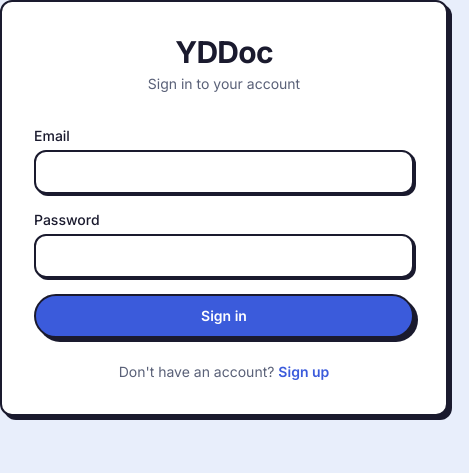
it: LoginForm › displays error message on failed sign in
Type "user@example.com" into the field labelled "Email".
click(224, 172); type("user@example.com")  # box [34, 150, 414, 194]
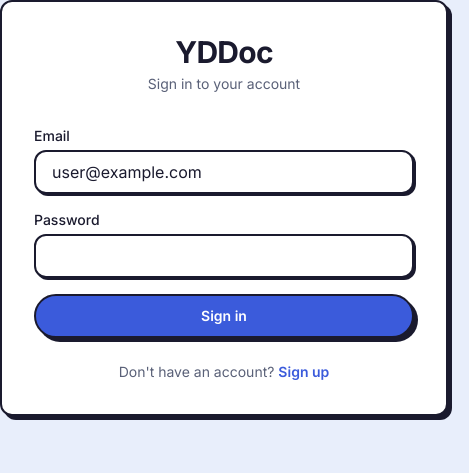
Type "wrongpassword" into the password field labelled "Password".
click(224, 256); type("wrongpassword")  # box [34, 234, 414, 278]
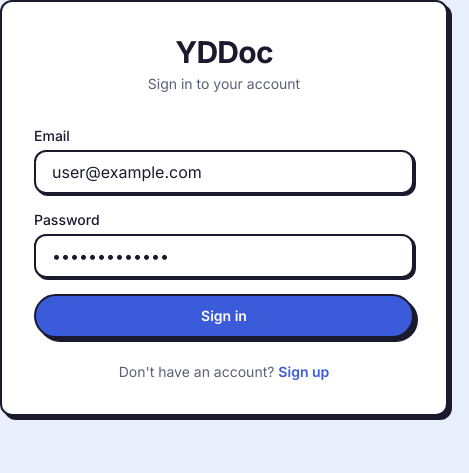
Submit the form "Email Password Sign in", box [34, 126, 414, 338]
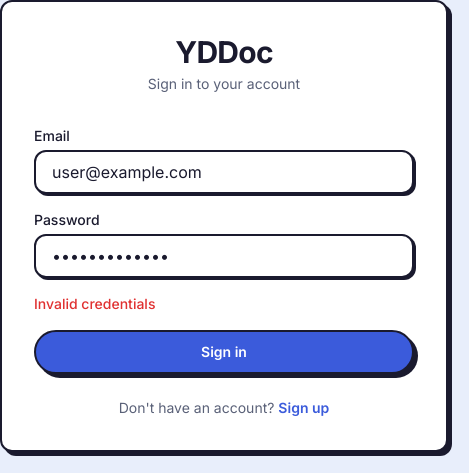
Now the text "Invalid credentials" is shown, box [34, 295, 155, 312]
